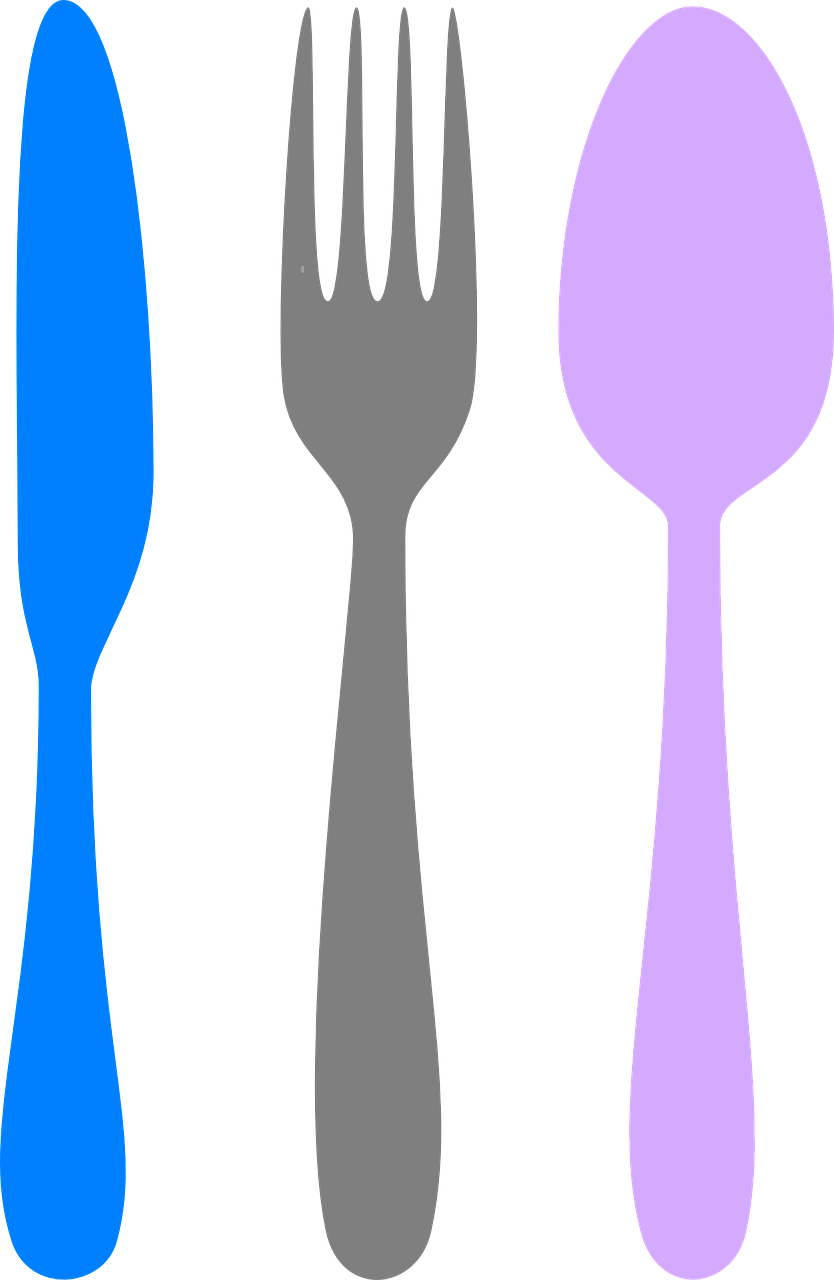knife: (0, 0, 159, 1280)
